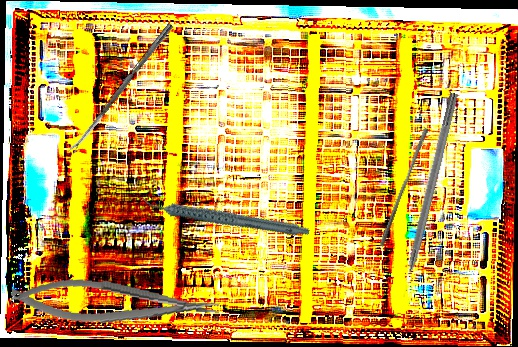Handpiece: (139, 162, 312, 269)
Hook Surgical: (396, 91, 460, 299)
Needle Holder: (9, 271, 221, 336)
Pusher: (378, 125, 430, 250)
Surgical Spoon: (67, 22, 174, 155)
